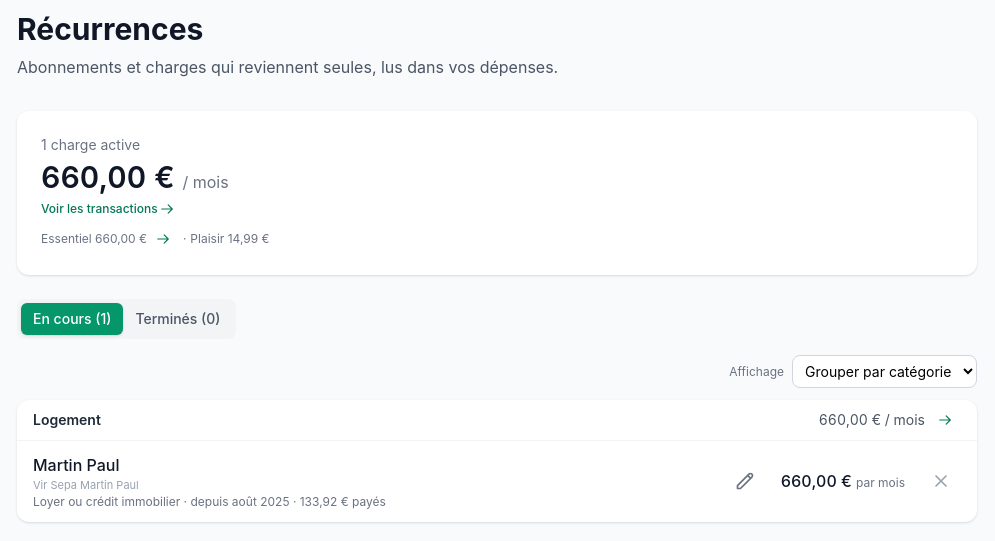
Scenario: RecurrencesPage › says so when nothing has ended
Click the tab with test id "tab-ended" at (178, 319), box [123,303,232,335]
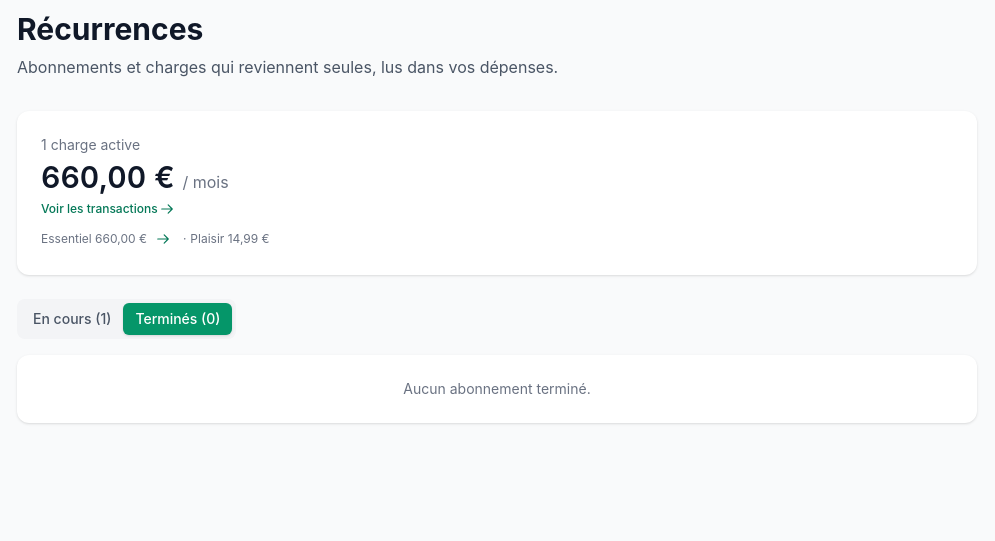
Expected: the text "Aucun abonnement terminé." is shown, [17,355,977,423]
